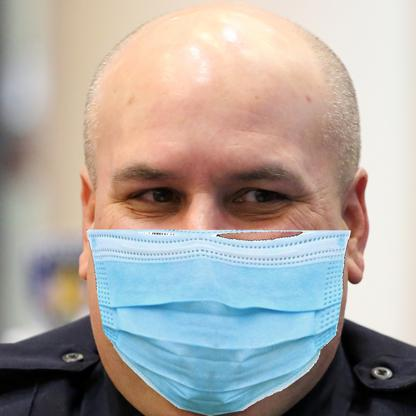mask: (85, 223, 349, 415)
